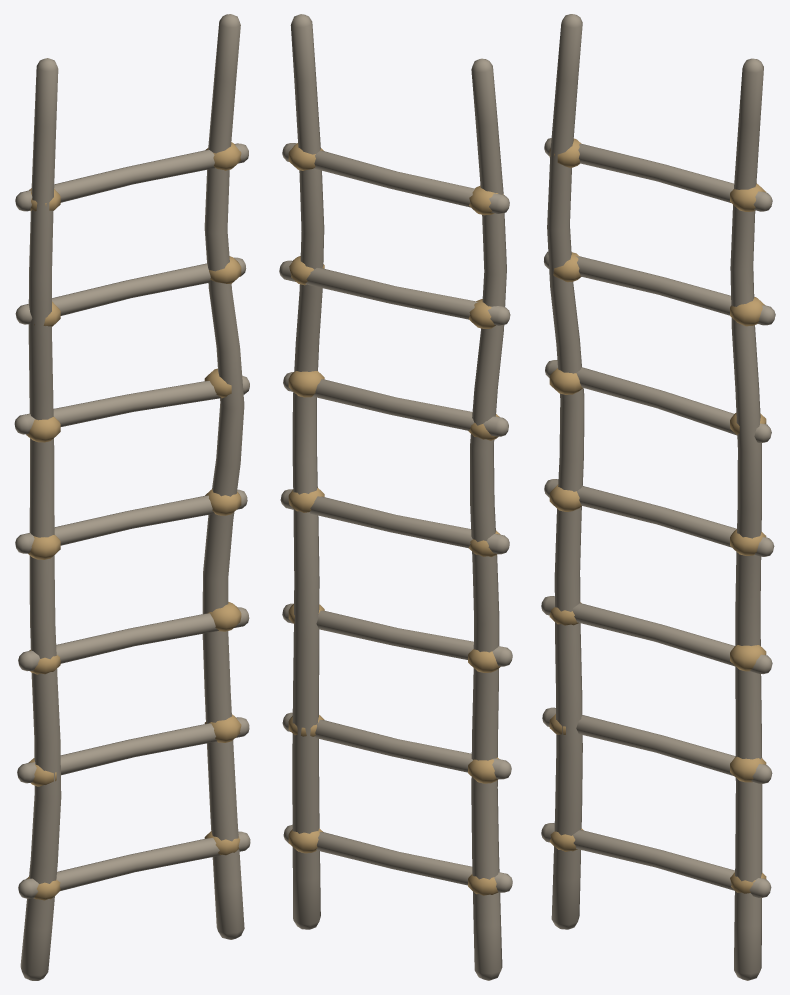
Rendered from sh_twig_ladder.fbx.
The picture shows the model from 3 angles, left to right: view 1: azimuth 30°, elevation 25°; view 2: azimuth 150°, elevation 25°; view 3: azimuth 330°, elevation 25°; orthographic projection.
Visible parts, largest first — view 1: SH_Twig_Ladder; view 2: SH_Twig_Ladder; view 3: SH_Twig_Ladder.
Part boxes in pixels (x1,y1,x2,y2): SH_Twig_Ladder: (14, 14, 250, 980); SH_Twig_Ladder: (279, 14, 512, 980); SH_Twig_Ladder: (541, 14, 775, 980).
Bounding box in the file's own units: 16.57 × 63.44 × 2.7.
